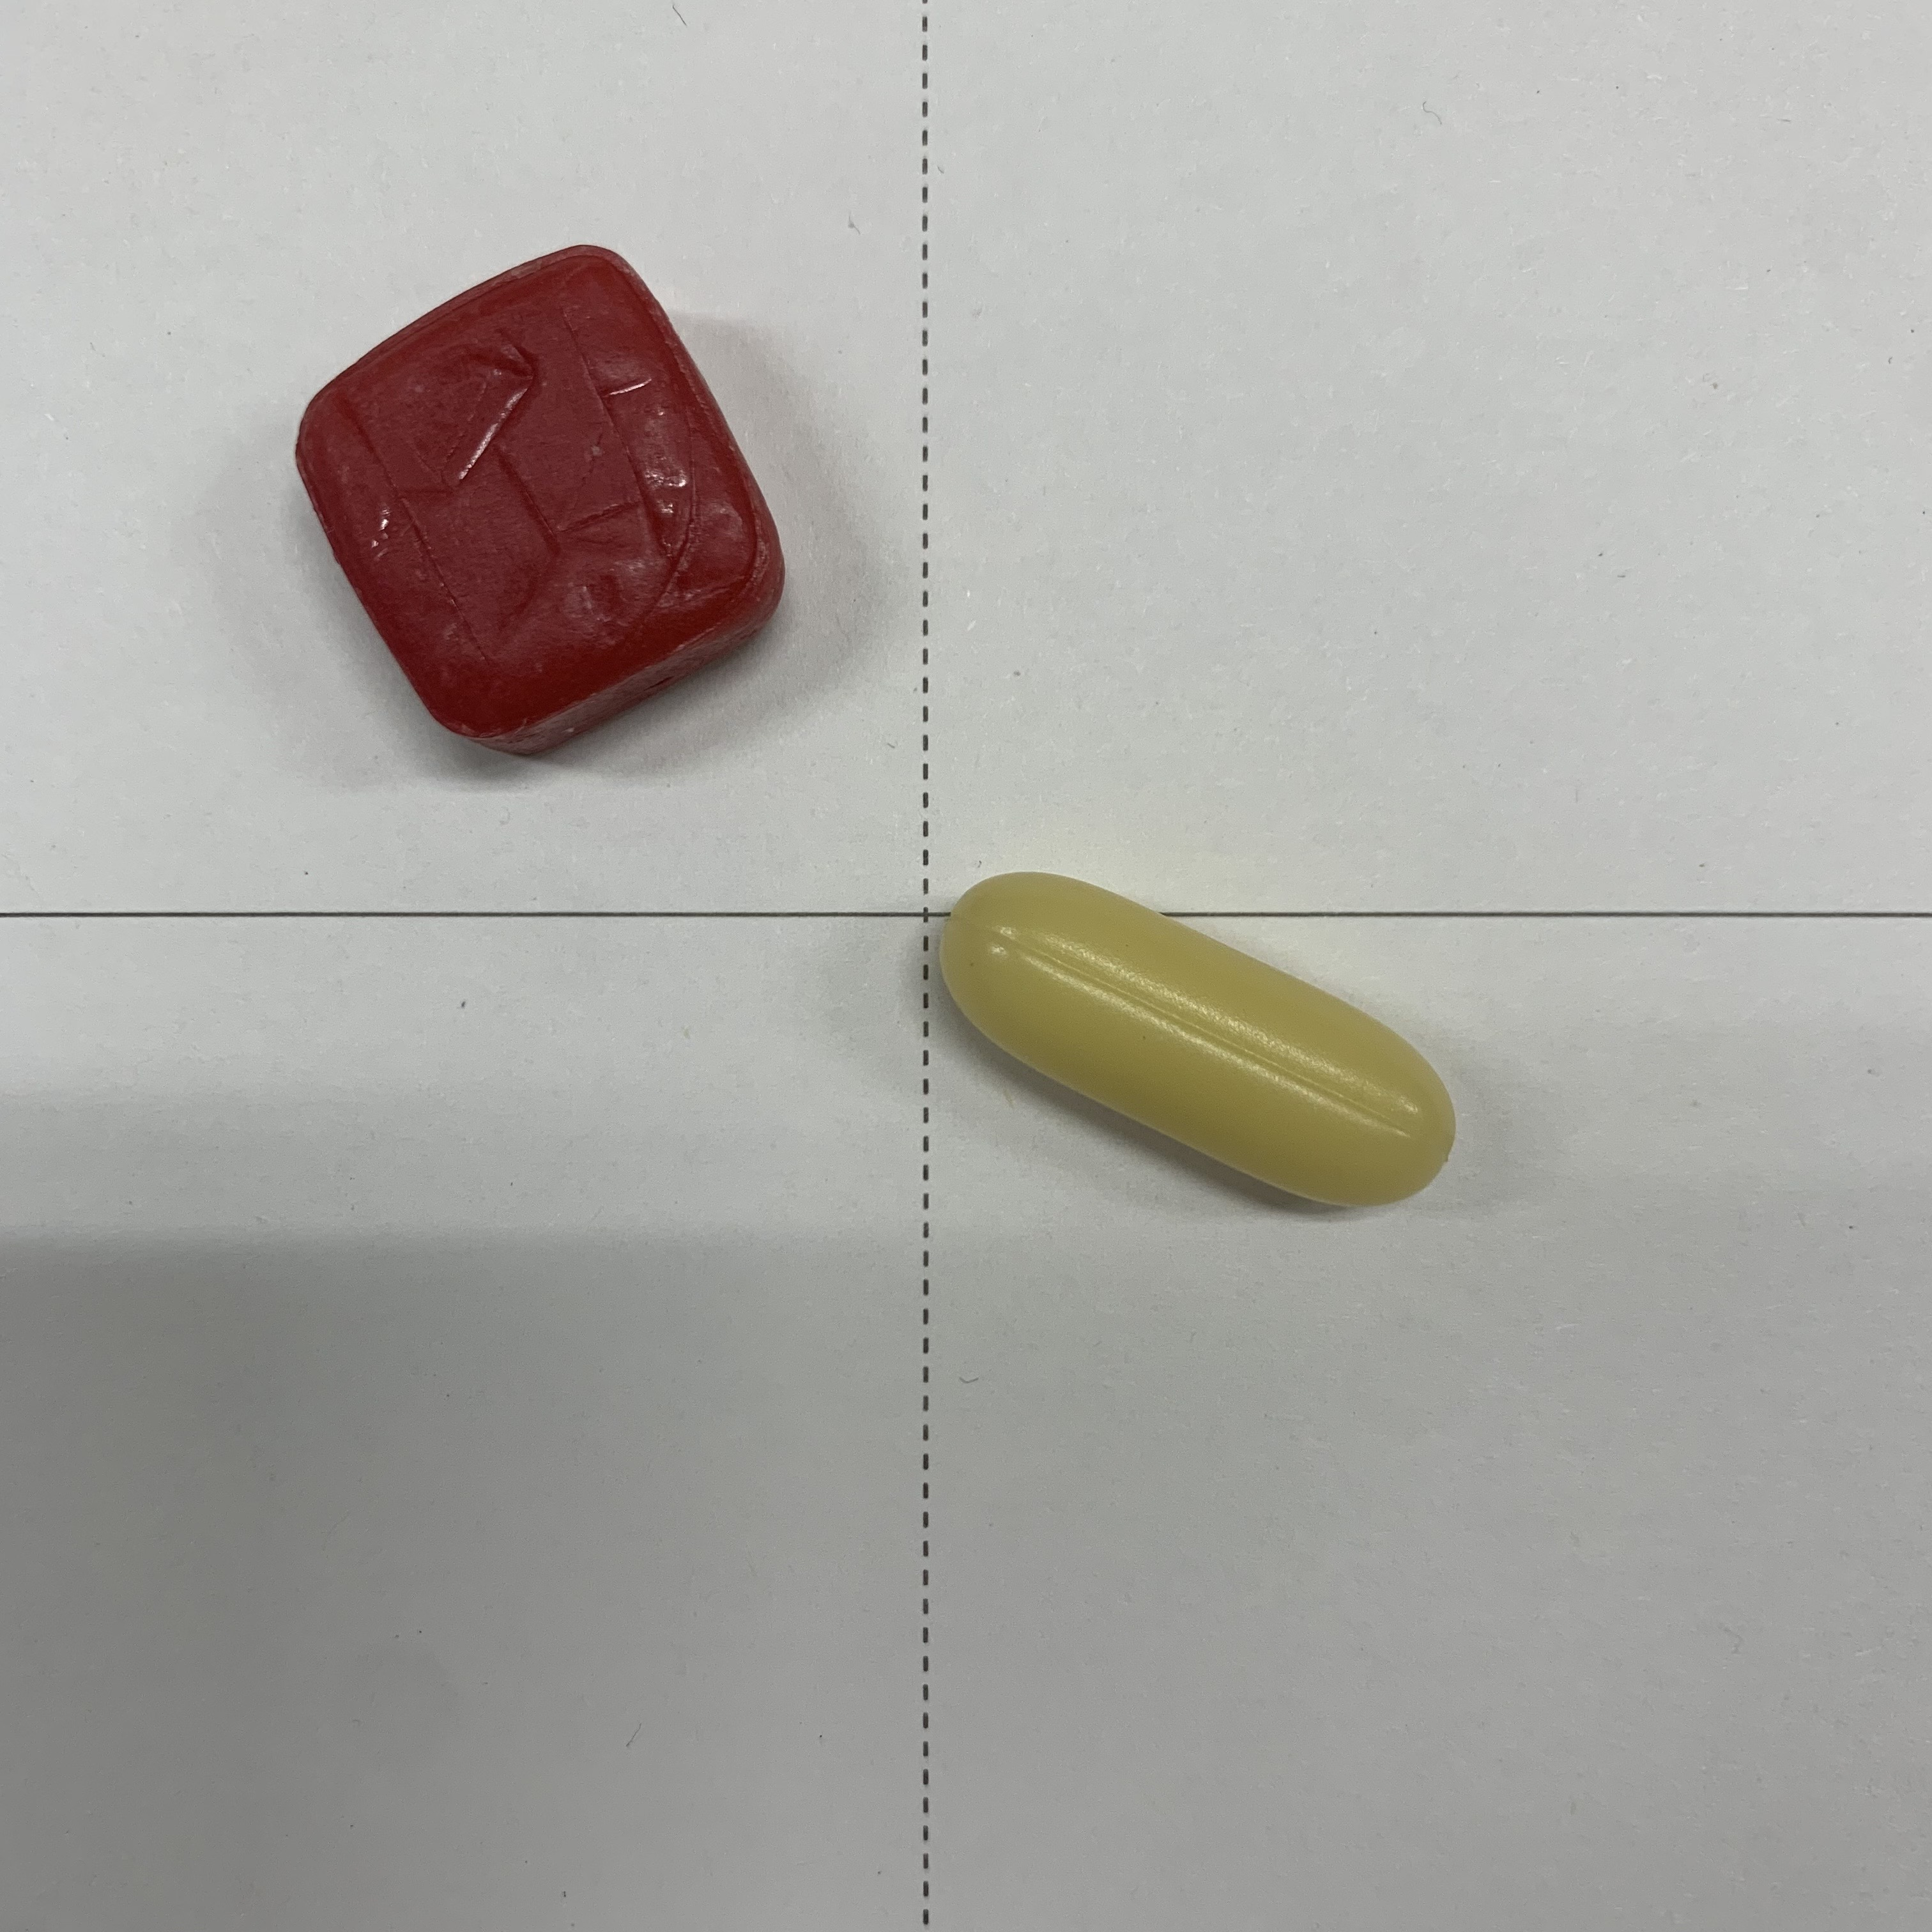rec_drug: (925, 858, 1486, 1240)
sqr_drug: (269, 221, 832, 773)
